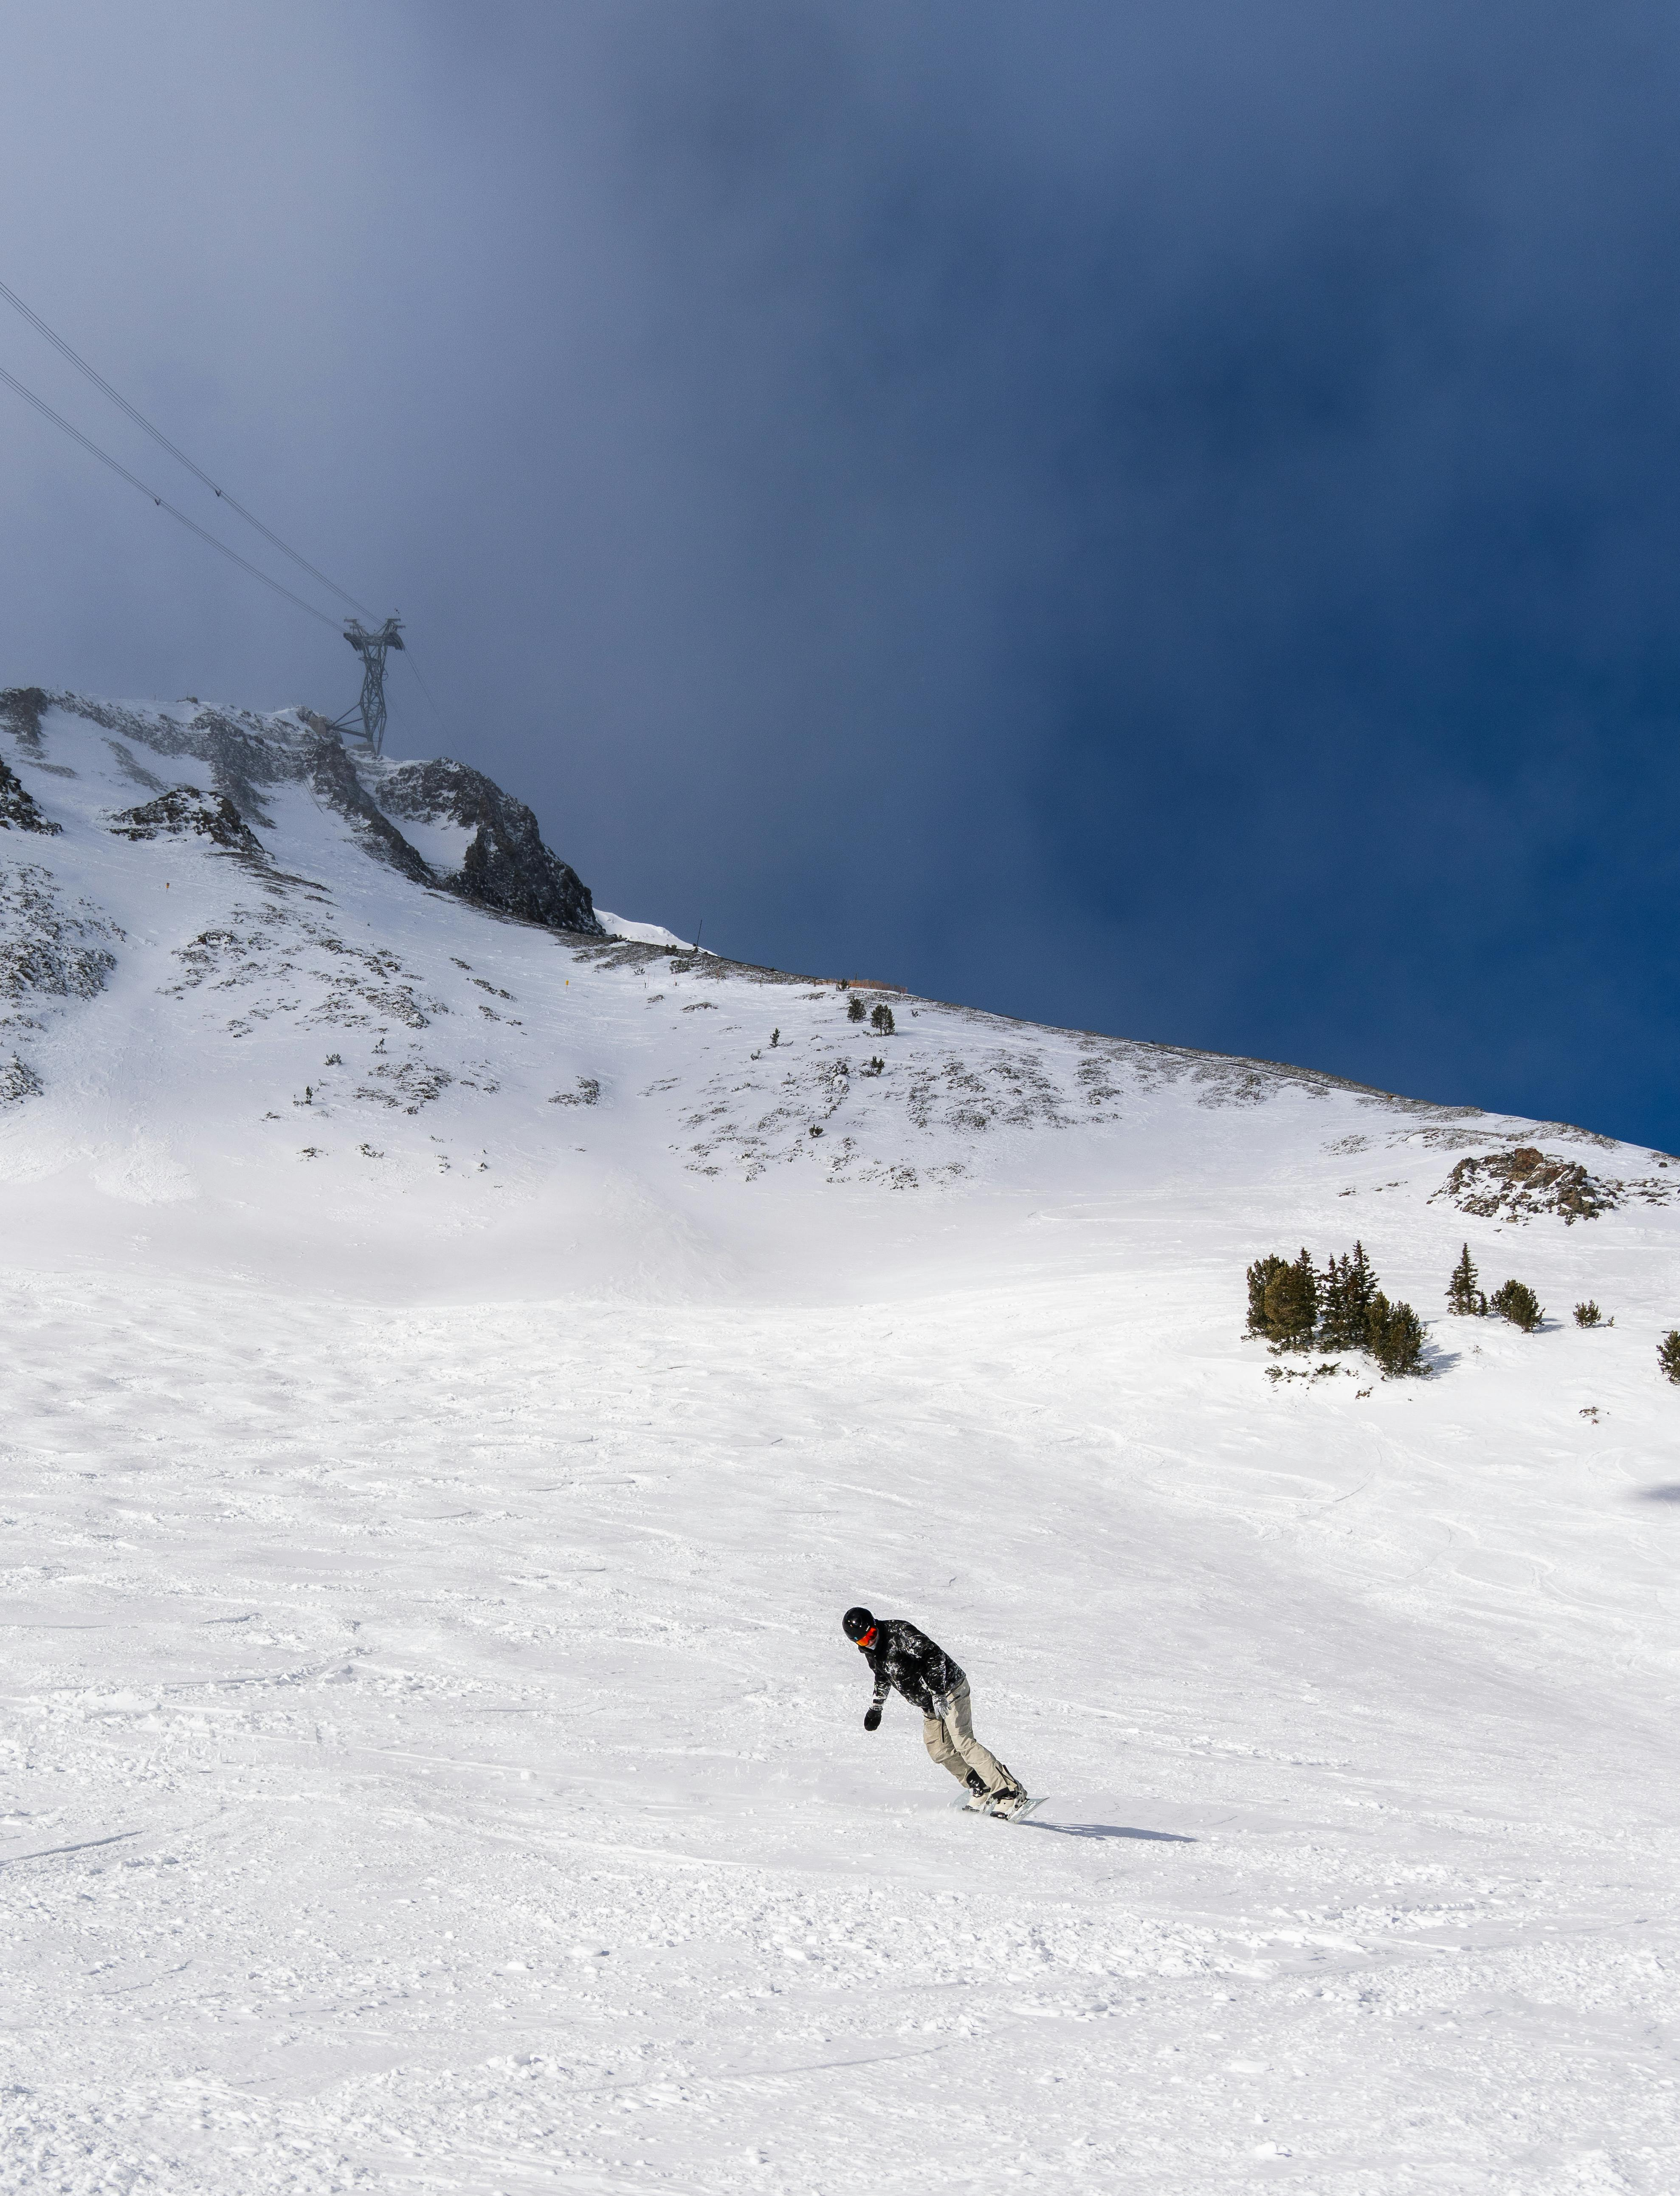snowboarder: (833, 1605, 1048, 1826)
